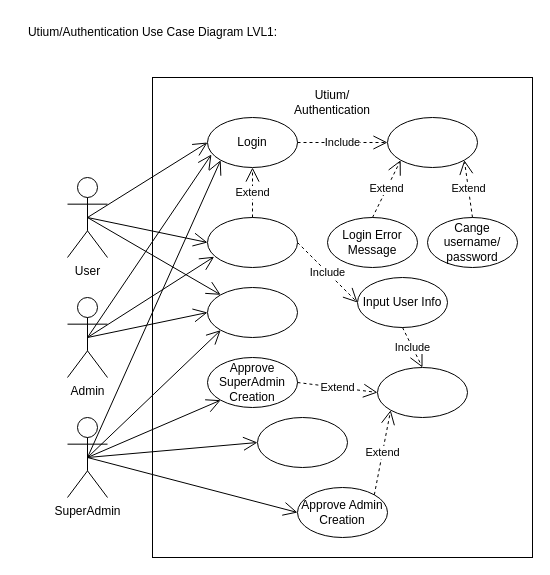
Image size: 550x575. Some labels were removed from this diagram. The centre of each missing label's shape, as x and y in pixels:
Assign Role: [422,392]
Change User Role: [302,442]
Logout: [252,312]
Register: [252,242]
Verifiy Login: [432,142]
